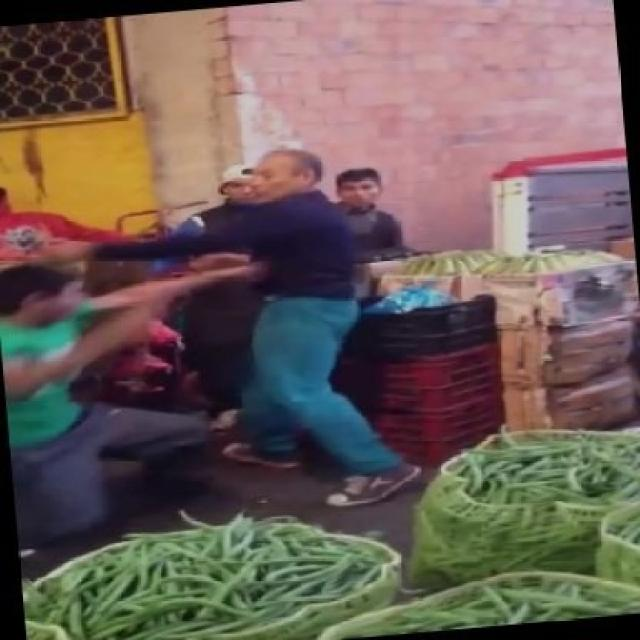fight: (0, 112, 423, 543)
non-fight: (176, 159, 270, 432), (330, 162, 410, 256)
